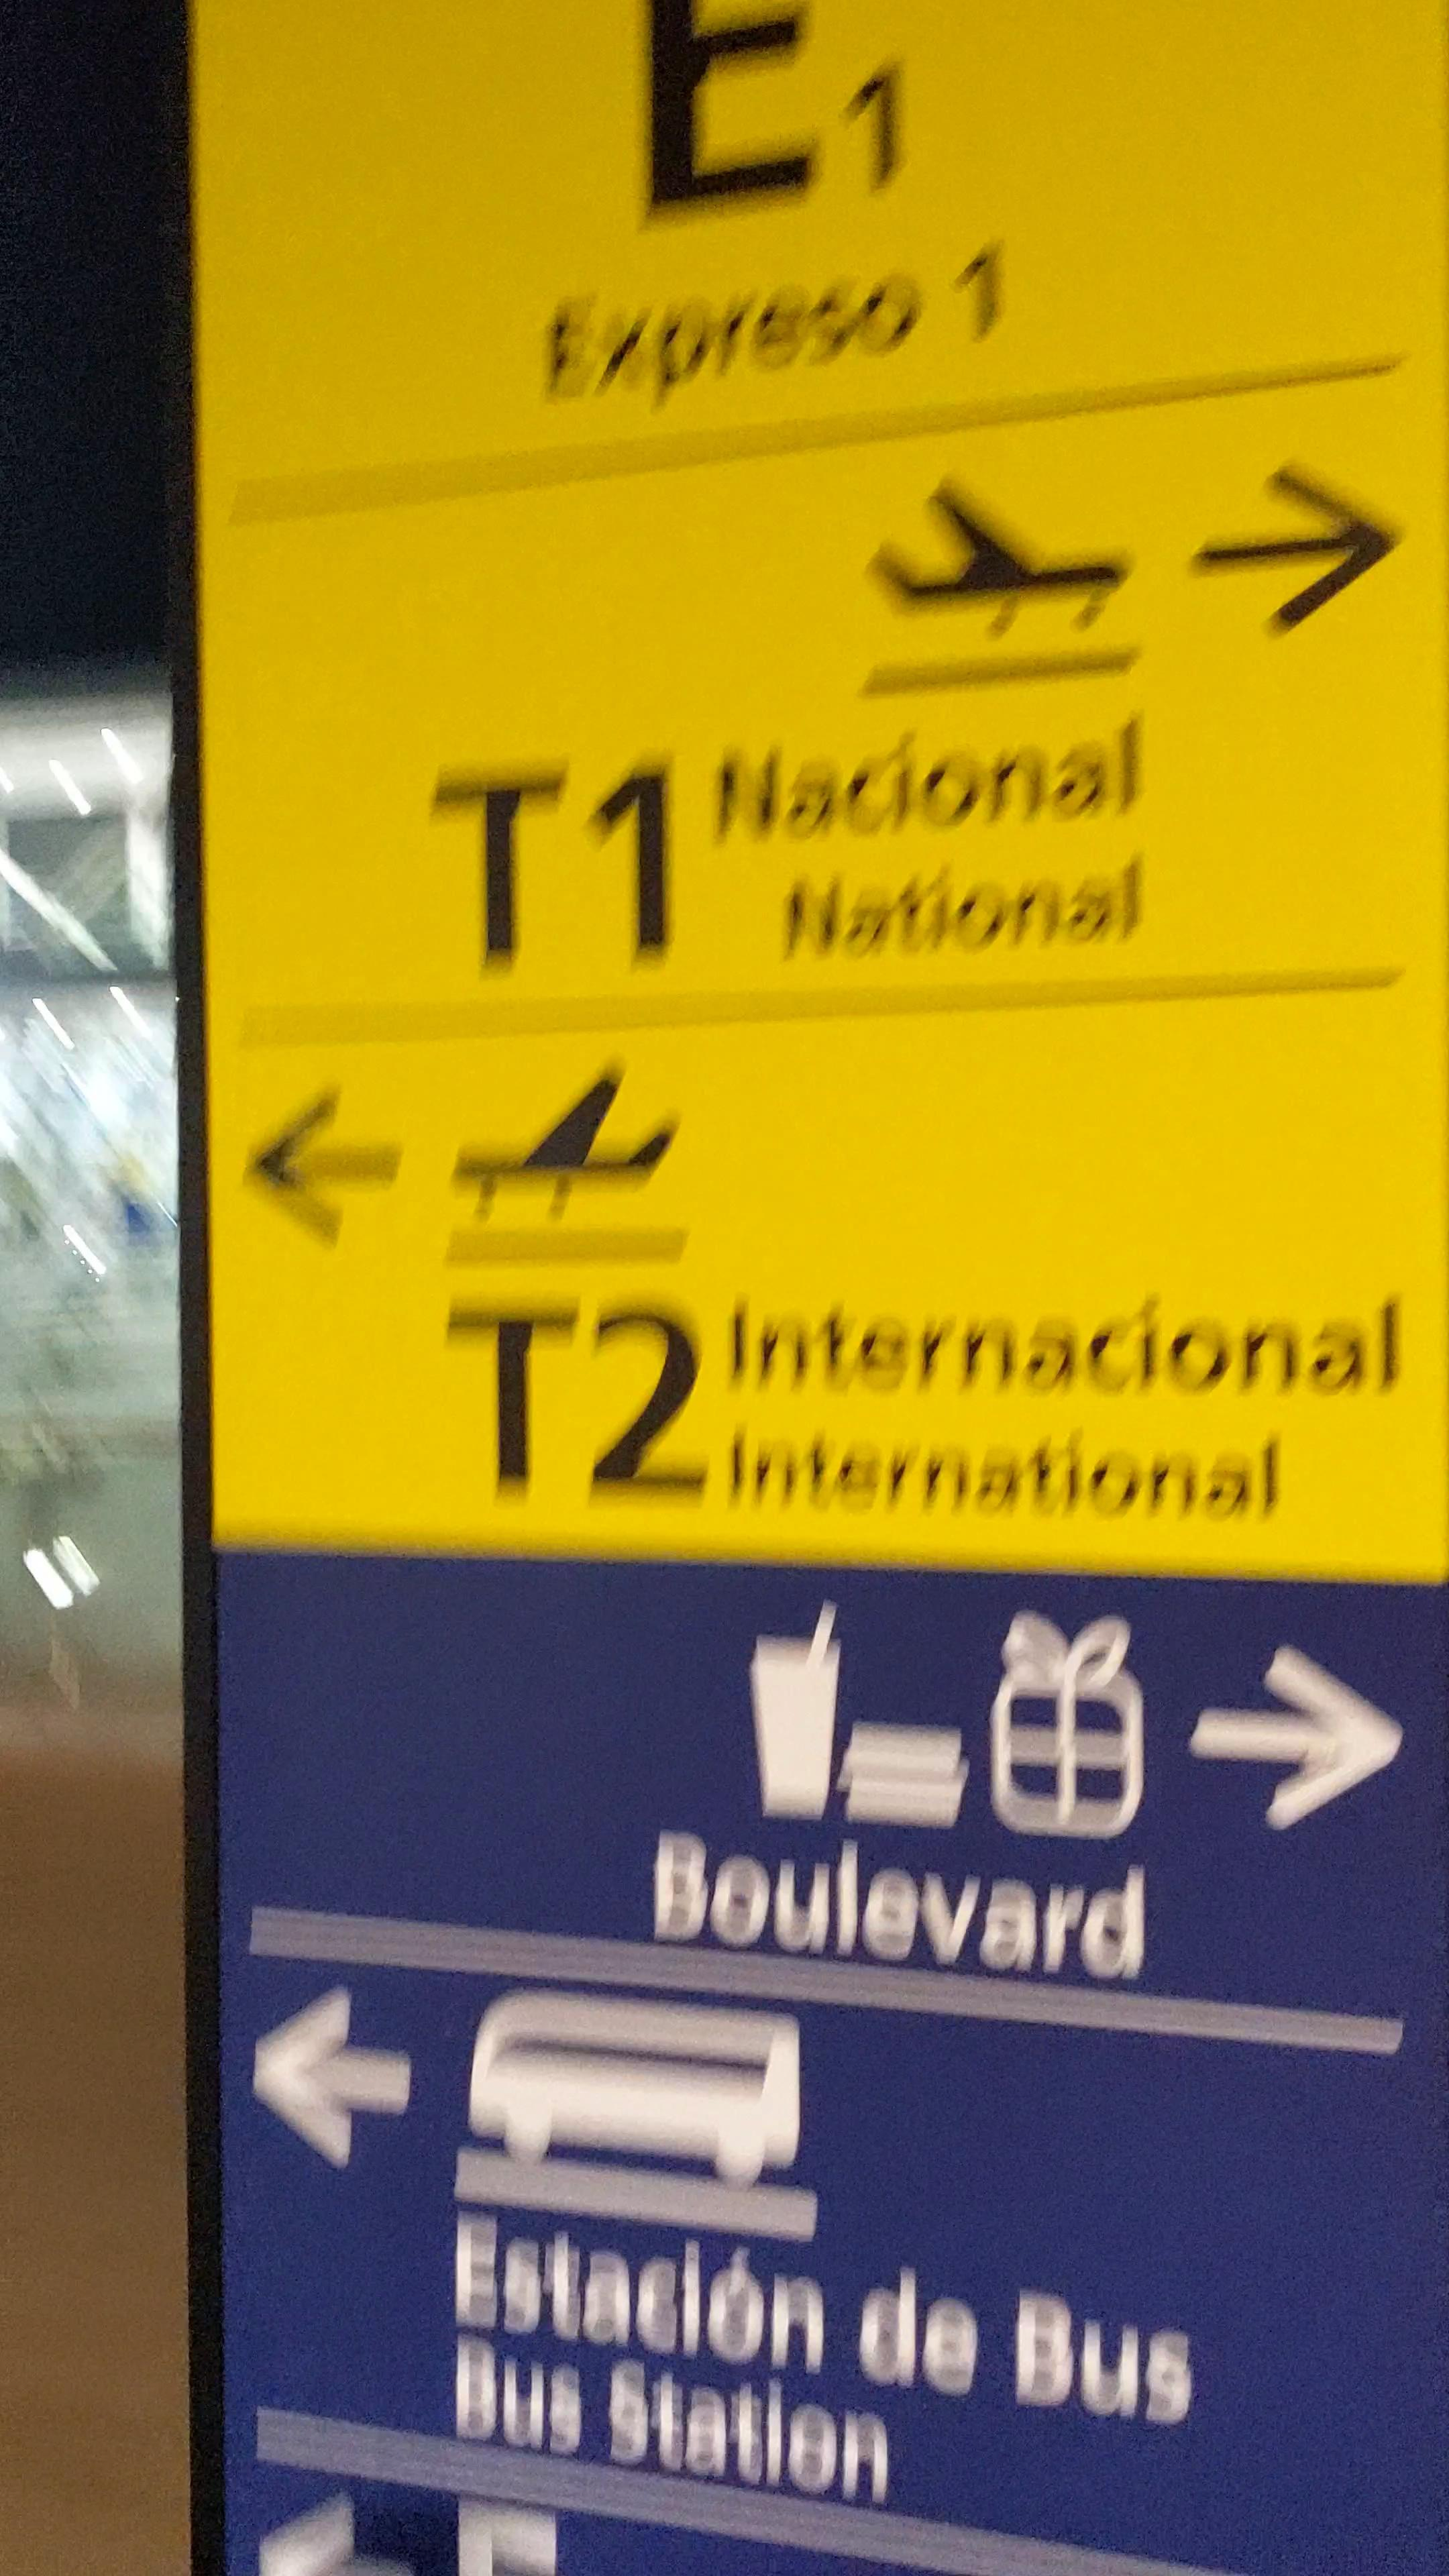airplane symbol: (851, 464, 1143, 648), (435, 1047, 692, 1230)
thin left arrow: (228, 1074, 418, 1261), (241, 1983, 425, 2171)
thin right arrow: (1187, 1645, 1410, 1847), (1263, 481, 1392, 635)
